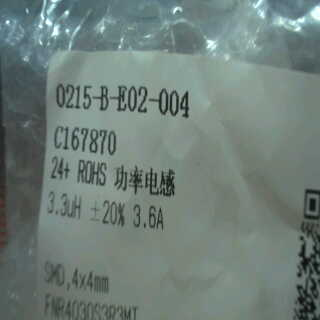3.3uH: (40, 184, 83, 231)
